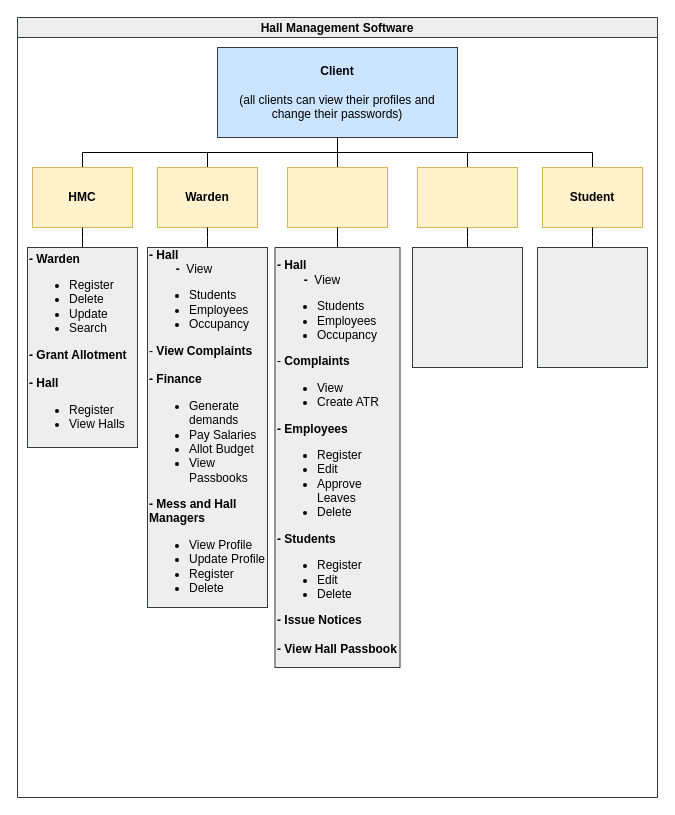
The diagram is 675 pixels wide and 815 high, and some of its shapes have lost their labels. The shapes that lost their labels are listed below. From the top down, each one's centre as x and y in pixels, then its label:
pixel 337 197: Hall Manager
pixel 467 197: Mess Manager
pixel 467 307: - Make Menu - View Menu - Add Ration - View Mess Passbook
pixel 592 307: - View Complaints - Make Complaints - View Current Menu
